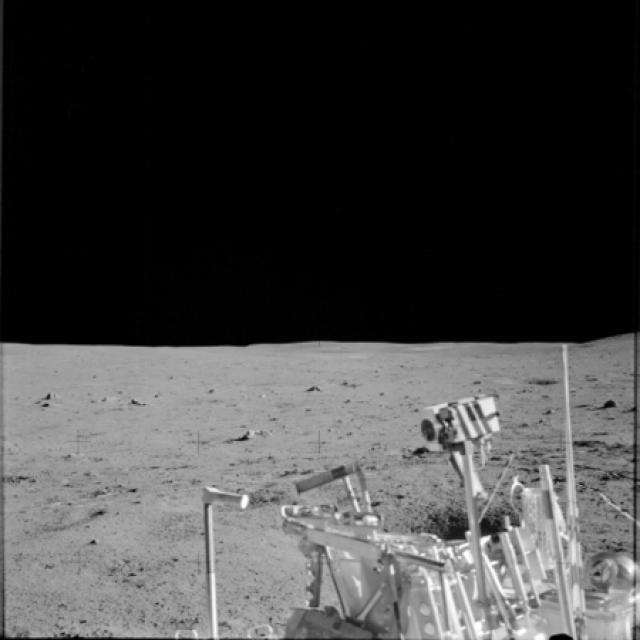crater: (340, 487, 550, 547), (140, 481, 285, 521), (104, 511, 210, 560), (53, 496, 121, 534), (485, 368, 565, 398)
rock: (229, 424, 274, 450), (593, 389, 625, 414), (29, 384, 64, 401), (118, 396, 153, 411), (294, 382, 326, 398)
